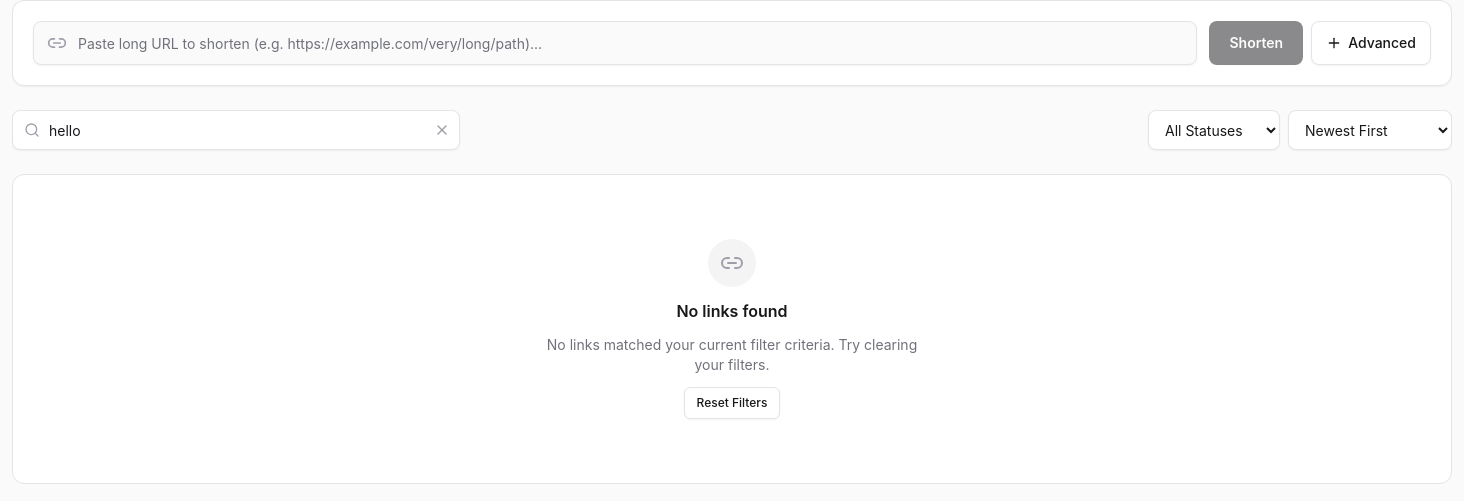
Test: DashboardPage Search Debounce › immediately clears search when X button is clicked
This screenshot has width=1464, height=501.
Replace the text in the field with placeholder "Search by slug, URL, title..." with "query". click: point(236, 130)
box: x1=12 y1=110 x2=460 y2=150
Wait 300 ms
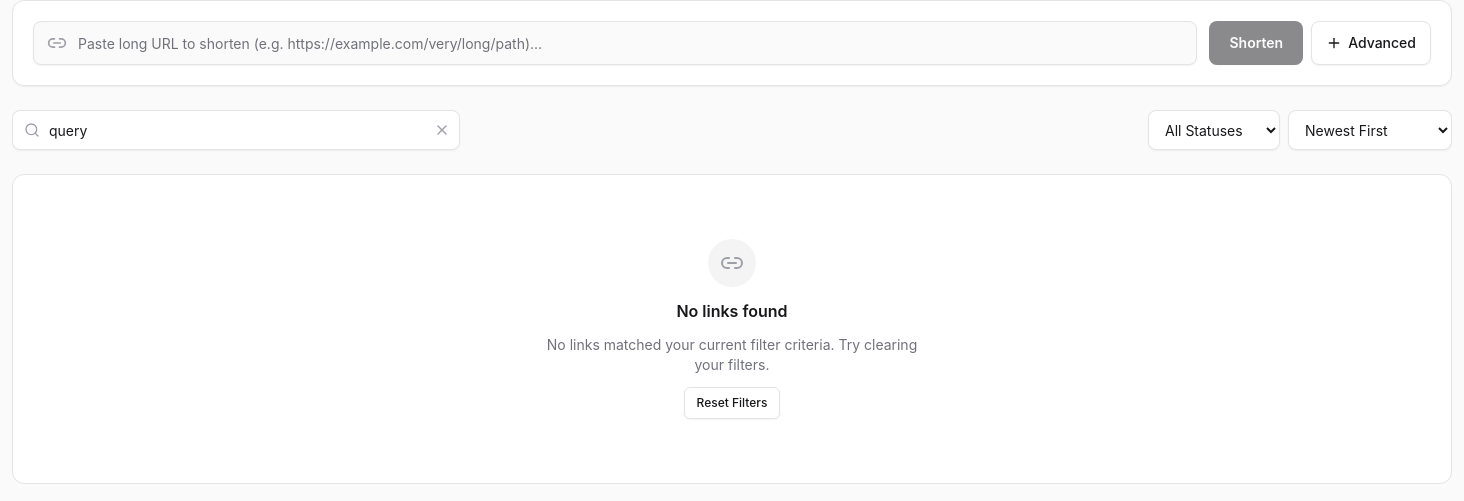
Click clear X button
Click the button named "clear search". click: point(442, 130)
box: x1=434 y1=122 x2=450 y2=138
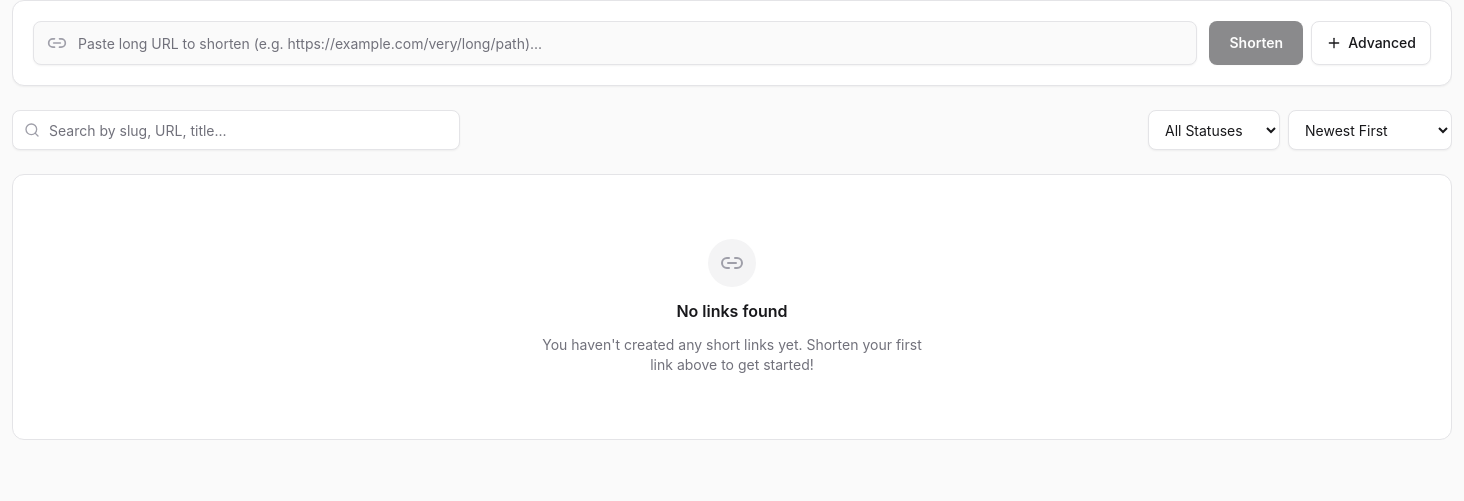
Expected: the field with placeholder "Search by slug, URL, title..." is empty, x1=12 y1=110 x2=460 y2=150
